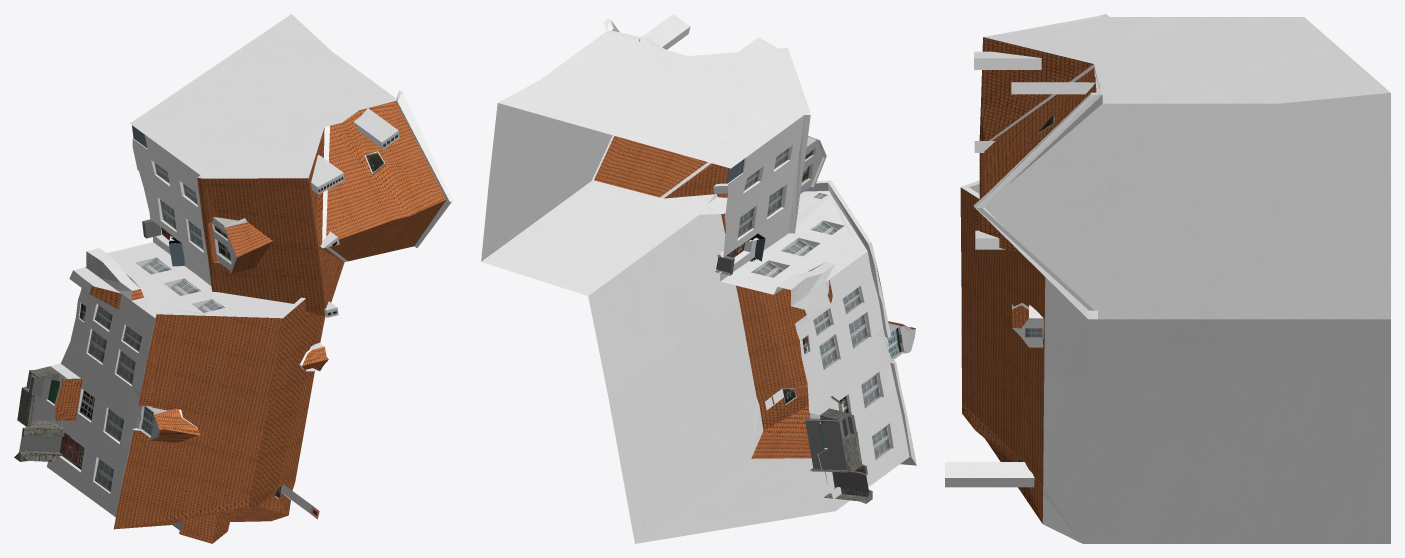
Rendered from Pyhavaimu_4-origo.obj.
The picture shows the model from 3 angles, left to right: view 1: azimuth 30°, elevation 25°; view 2: azimuth 150°, elevation 25°; view 3: azimuth 270°, elevation 25°; orthographic projection. The views are drawn at different scales.
Visible parts, largest first — view 1: Pyhavaimu_4; view 2: Pyhavaimu_4; view 3: Pyhavaimu_4.
Part boxes in pixels (x1,y1,x2,y2): Pyhavaimu_4: [14, 14, 452, 543]; Pyhavaimu_4: [481, 14, 916, 543]; Pyhavaimu_4: [945, 14, 1390, 543].
Size of the model in its own units: 22.31 by 25 by 18.71.
